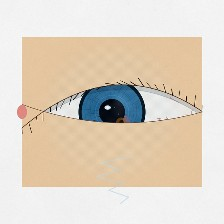foreign_body_visible: (105, 72, 122, 85)
